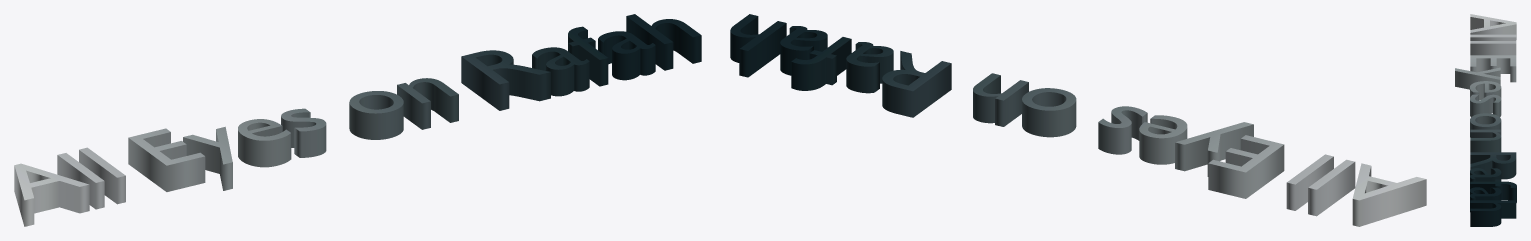
The picture shows the model from 3 angles, left to right: view 1: azimuth 30°, elevation 25°; view 2: azimuth 150°, elevation 25°; view 3: azimuth 270°, elevation 25°; orthographic projection. The views are drawn at different scales.
Parts seen in each view (by area): view 1: 文字.014; view 2: 文字.014; view 3: 文字.014.
Part boxes in pixels (bbox=[...]): 文字.014: bbox=[14, 14, 701, 226]; 文字.014: bbox=[730, 14, 1426, 226]; 文字.014: bbox=[1455, 14, 1516, 226].
Bounding box in the file's own units: 6.94 × 0.26 × 0.9214.
1 material, 1 textured.
